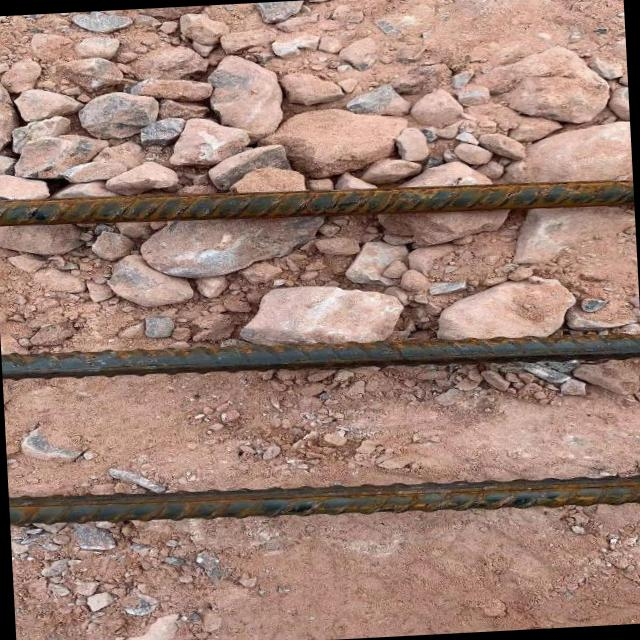ribbed bar: (9, 462, 640, 536), (0, 166, 633, 239), (1, 320, 640, 392)
